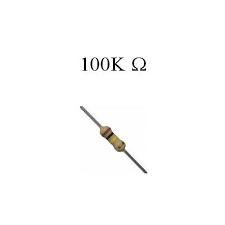resistor: (97, 122, 134, 161)
